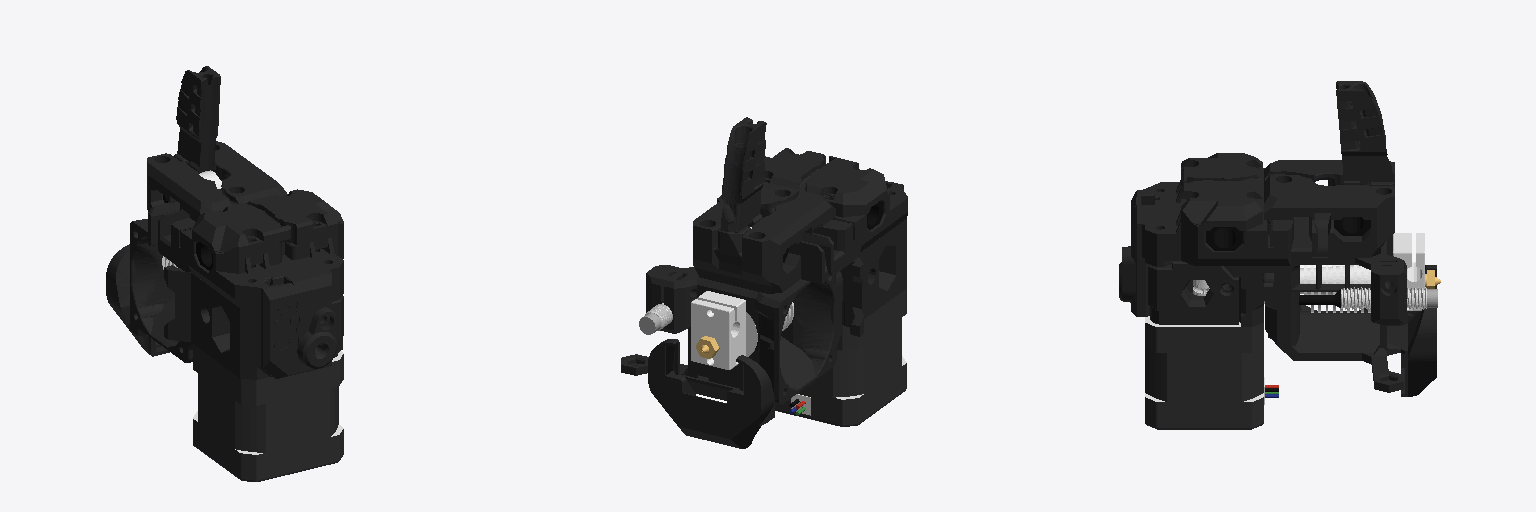
The model's file is bear21_mk3s_simulator_e-axis.obj.
3 views of the same model, side by side, from view 1: azimuth 30°, elevation 25°; view 2: azimuth 150°, elevation 25°; view 3: azimuth 270°, elevation 25° (orthographic).
Parts seen in each view (by area): view 1: nema17_ldo_cool_power v1:1, x_carriage_back_mk3s v2:1, x_carriage:1, body:1, fs_cover v2:2, cover:1, cable_guide_back_b:1, nozzle_fan_duct:1, cable_guide_back_a:1; view 2: body:1, x_carriage_back_mk3s v2:1, nema17_ldo_cool_power v1:1, x_carriage:1, nozzle_fan_duct:1, cover:1, block:1, cable_guide_back_b:1, cable_guide_back_a:1, pinda v1:2, sink:1; view 3: nema17_ldo_cool_power v1:1, x_carriage_back_mk3s v2:1, x_carriage:1, body:1, cover:1, extruder_idler_bondtech:1, nozzle_fan_duct:1, cable_guide_back_b:1, cable_guide_back_a:1, fs_cover v2:2, pinda v1:2, sink:1 (+3 smaller).
Boxes of the visible parts, x1,y1,x2,y2 form: nema17_ldo_cool_power v1:1: [193, 344, 343, 481]; x_carriage_back_mk3s v2:1: [147, 141, 343, 259]; x_carriage:1: [147, 153, 343, 310]; body:1: [130, 219, 343, 379]; fs_cover v2:2: [261, 271, 336, 378]; cover:1: [130, 262, 192, 362]; cable_guide_back_b:1: [177, 66, 220, 126]; nozzle_fan_duct:1: [106, 244, 169, 356]; cable_guide_back_a:1: [176, 111, 218, 173]; body:1: [646, 219, 906, 349]; x_carriage_back_mk3s v2:1: [693, 148, 889, 261]; nema17_ldo_cool_power v1:1: [775, 288, 906, 426]; x_carriage:1: [693, 185, 907, 293]; nozzle_fan_duct:1: [648, 339, 774, 448]; cover:1: [621, 302, 841, 404]; block:1: [691, 291, 745, 369]; cable_guide_back_b:1: [723, 117, 766, 187]; cable_guide_back_a:1: [720, 172, 763, 232]; pinda v1:2: [639, 303, 672, 334]; sink:1: [746, 302, 793, 356]; nema17_ldo_cool_power v1:1: [1145, 316, 1278, 429]; x_carriage_back_mk3s v2:1: [1181, 153, 1394, 230]; x_carriage:1: [1142, 168, 1394, 265]; body:1: [1142, 231, 1406, 326]; cover:1: [1265, 296, 1407, 392]; extruder_idler_bondtech:1: [1148, 261, 1238, 324]; nozzle_fan_duct:1: [1401, 265, 1436, 396]; cable_guide_back_b:1: [1336, 81, 1383, 138]; cable_guide_back_a:1: [1340, 130, 1393, 184]; fs_cover v2:2: [1119, 190, 1141, 316]; pinda v1:2: [1299, 287, 1437, 309]; sink:1: [1264, 265, 1370, 312].
Size of the model in its own units: 7.46 by 12.53 by 11.3.